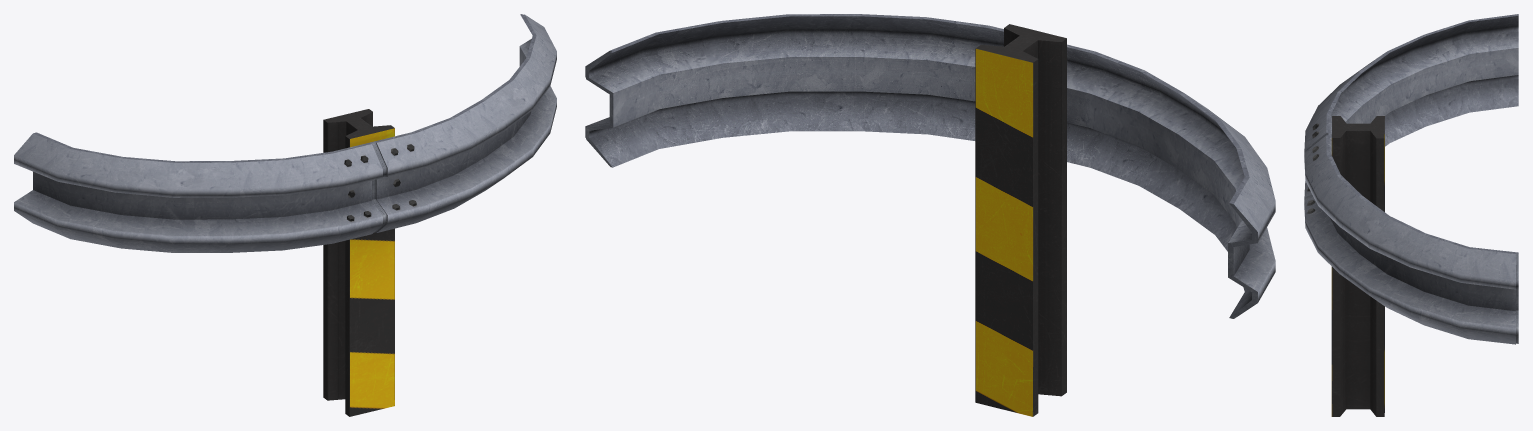
File: Gen_hywy_barricade_04.fbx
3 views of the same model, side by side, from view 1: azimuth 30°, elevation 25°; view 2: azimuth 150°, elevation 25°; view 3: azimuth 270°, elevation 25° (orthographic). The views are drawn at different scales.
Parts seen in each view (by area): view 1: Gen_hywy_barricade_04_LOD0; view 2: Gen_hywy_barricade_04_LOD0; view 3: Gen_hywy_barricade_04_LOD0.
Boxes of the visible parts, x1,y1,x2,y2 form: Gen_hywy_barricade_04_LOD0: [14, 14, 556, 416]; Gen_hywy_barricade_04_LOD0: [585, 14, 1275, 416]; Gen_hywy_barricade_04_LOD0: [1304, 14, 1518, 416].
Size of what is drawn, in the model's own units: 2.19 by 1.1 by 0.7656.
Materials: 1 (1 with a texture image).
